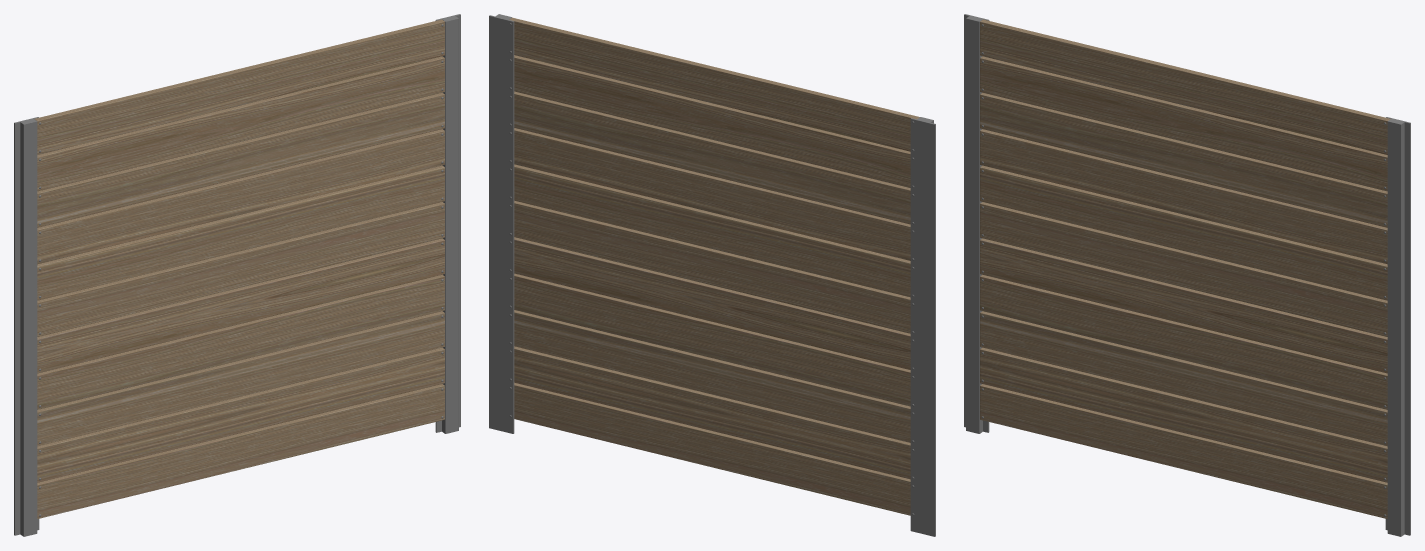
The model's file is fence.fbx.
3 views of the same model, side by side, from view 1: azimuth 30°, elevation 25°; view 2: azimuth 150°, elevation 25°; view 3: azimuth 330°, elevation 25° (orthographic).
Parts seen in each view (by area): view 1: cgaxis_models_36_05_02, cgaxis_models_36_05_01_1, cgaxis_models_36_05_01_2; view 2: cgaxis_models_36_05_02, cgaxis_models_36_05_01_2, cgaxis_models_36_05_01_1; view 3: cgaxis_models_36_05_02, cgaxis_models_36_05_01_2, cgaxis_models_36_05_01_1.
Part boxes in pixels (x1,y1,x2,y2): cgaxis_models_36_05_02: [34, 19, 444, 518]; cgaxis_models_36_05_01_1: [14, 117, 39, 536]; cgaxis_models_36_05_01_2: [435, 14, 460, 433]; cgaxis_models_36_05_02: [509, 17, 919, 515]; cgaxis_models_36_05_01_2: [489, 14, 514, 433]; cgaxis_models_36_05_01_1: [910, 117, 935, 536]; cgaxis_models_36_05_02: [980, 19, 1390, 518]; cgaxis_models_36_05_01_2: [1385, 117, 1410, 536]; cgaxis_models_36_05_01_1: [964, 14, 989, 433].
Bounding box in the file's own units: 164 × 145 × 3.01.
Materials: 2 (1 with a texture image).
